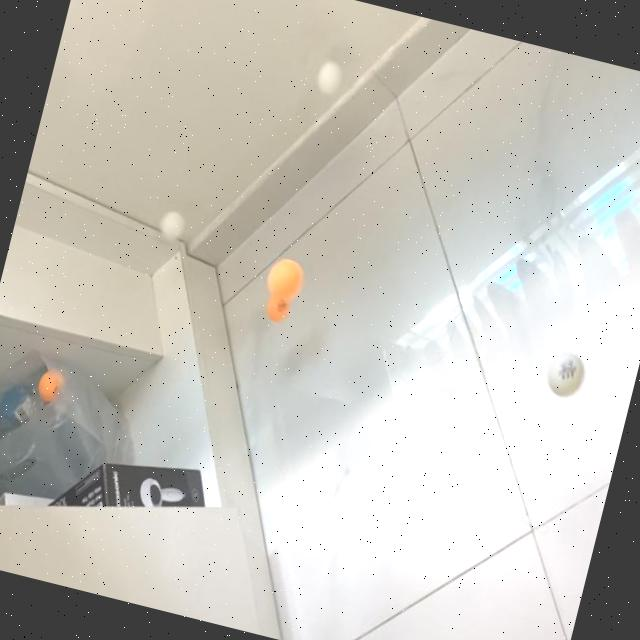ping-pong-ball: (263, 254, 307, 305), (546, 349, 590, 397), (313, 56, 345, 97), (36, 366, 66, 404), (157, 206, 189, 240), (263, 288, 294, 322)
